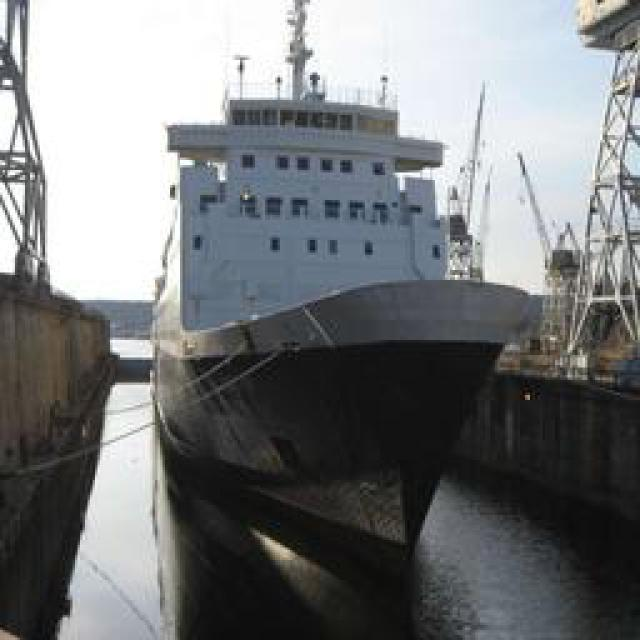Ship: (157, 39, 537, 579)
